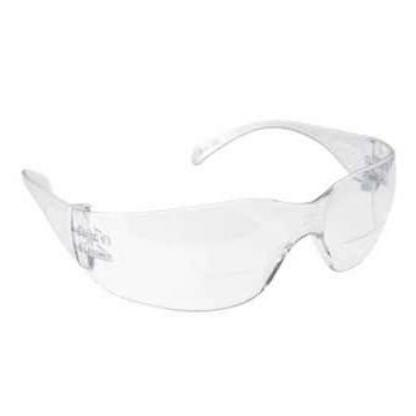oculos: (7, 110, 412, 331)
